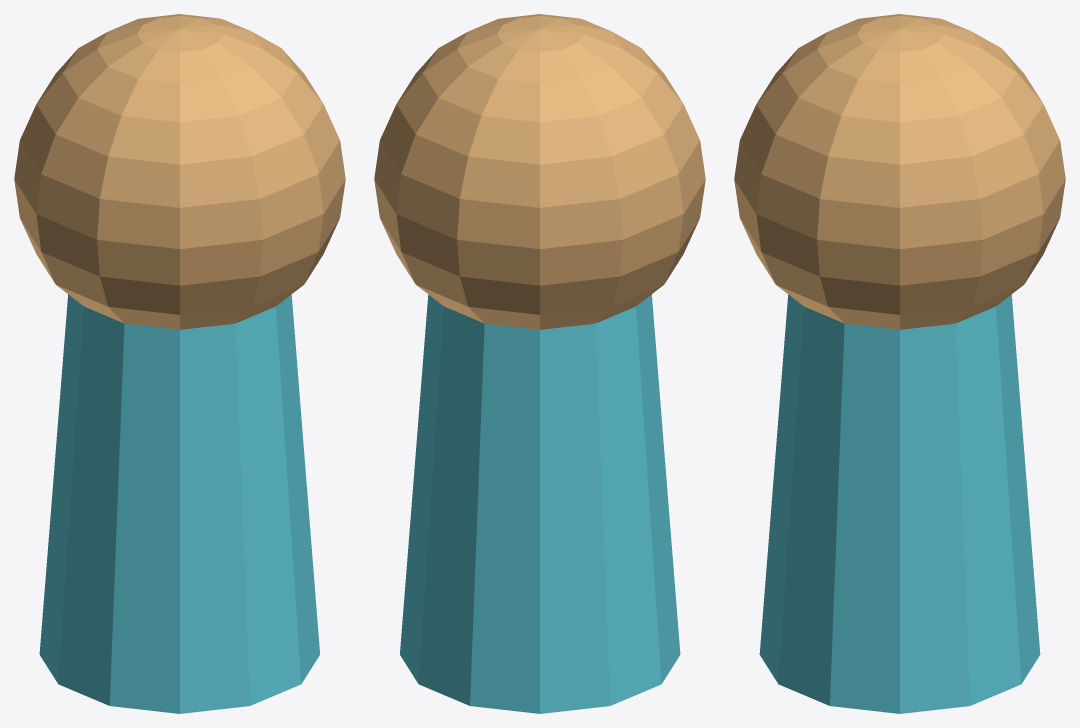
Rendered from NPC.fbx.
3 renders of one model, left to right at view 1: azimuth 30°, elevation 25°; view 2: azimuth 150°, elevation 25°; view 3: azimuth 270°, elevation 25°, orthographic.
Parts seen in each view (by area): view 1: pawn; view 2: pawn; view 3: pawn.
Boxes of the visible parts, x1=… form: pawn: x1=14, y1=14, x2=345, y2=713; pawn: x1=374, y1=14, x2=705, y2=713; pawn: x1=734, y1=14, x2=1065, y2=713.
Bounding box in the file's own units: 4.74 × 9.87 × 4.74.
